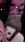with_mask: (2, 1, 25, 42)
